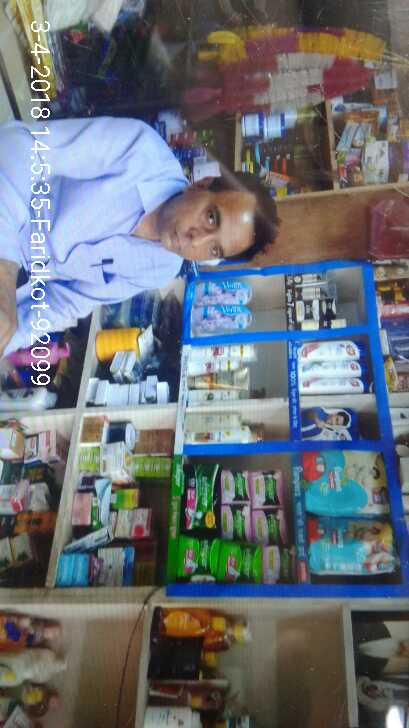venus: (192, 303, 252, 333), (194, 279, 251, 301)
